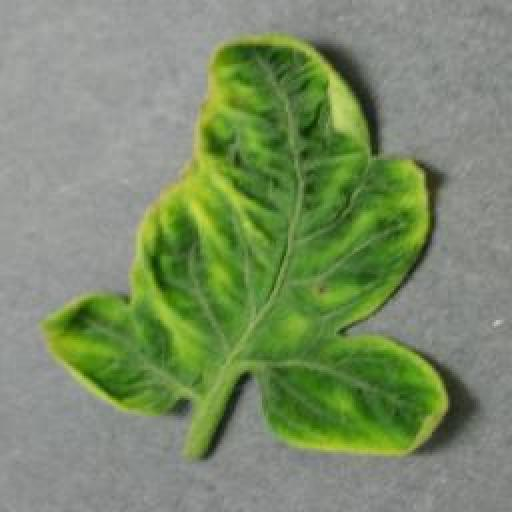Yellow Leaf Curl Virus: (37, 32, 452, 456)
